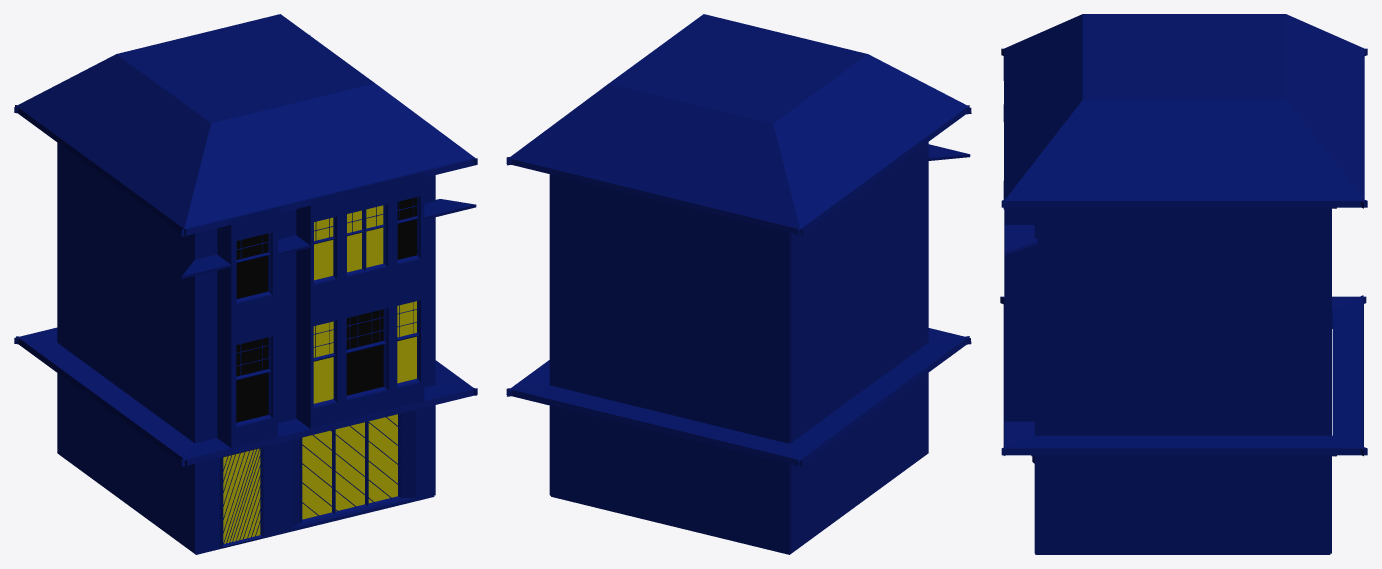
File: Haus 3 gross.fbx
3 views of the same model, side by side, from view 1: azimuth 30°, elevation 25°; view 2: azimuth 150°, elevation 25°; view 3: azimuth 270°, elevation 25° (orthographic). The views are drawn at different scales.
Parts seen in each view (by area): view 1: polySurface213, polySurface201, polySurface93, polySurface173, polySurface99, polySurface107, polySurface151, polySurface205, polySurface199, polySurface144, polySurface214, polySurface200 (+4 smaller); view 2: polySurface94, polySurface213, polySurface201, polySurface211, polySurface205, polySurface207, polySurface214, polySurface212, polySurface206, polySurface239, polySurface203; view 3: polySurface239, polySurface213, polySurface203, polySurface151, polySurface211, polySurface209, polySurface204, polySurface199, polySurface72, polySurface94, polySurface212, polySurface93 (+1 smaller).
Part boxes in pixels (<box>): polySurface213: <box>16,14,474,228</box>; polySurface201: <box>57,142,196,553</box>; polySurface93: <box>196,175,434,553</box>; polySurface173: <box>217,206,277,448</box>; polySurface99: <box>340,178,394,421</box>; polySurface107: <box>296,191,340,428</box>; polySurface151: <box>393,171,424,408</box>; polySurface205: <box>44,351,194,466</box>; polySurface199: <box>231,385,477,454</box>; polySurface144: <box>343,204,393,420</box>; polySurface214: <box>43,126,186,235</box>; polySurface200: <box>181,438,231,466</box>; polySurface94: <box>550,174,789,553</box>; polySurface213: <box>509,14,968,229</box>; polySurface201: <box>789,142,928,553</box>; polySurface211: <box>556,390,802,466</box>; polySurface205: <box>803,336,969,445</box>; polySurface207: <box>556,170,802,235</box>; polySurface214: <box>827,105,969,215</box>; polySurface212: <box>506,385,570,406</box>; polySurface206: <box>789,434,827,466</box>; polySurface239: <box>549,174,550,494</box>; polySurface203: <box>506,360,549,396</box>; polySurface239: <box>1035,208,1330,554</box>; polySurface213: <box>1004,14,1364,200</box>; polySurface203: <box>1063,435,1367,456</box>; polySurface151: <box>1004,207,1034,421</box>; polySurface211: <box>1332,295,1363,428</box>; polySurface209: <box>1063,200,1367,208</box>; polySurface204: <box>1001,435,1063,456</box>; polySurface199: <box>1003,323,1034,455</box>; polySurface72: <box>1005,225,1037,255</box>; polySurface94: <box>1330,208,1331,553</box>; polySurface212: <box>1332,423,1363,456</box>; polySurface93: <box>1034,209,1035,553</box>.
Bounding box in the file's own units: 1119 × 1467 × 1122.
